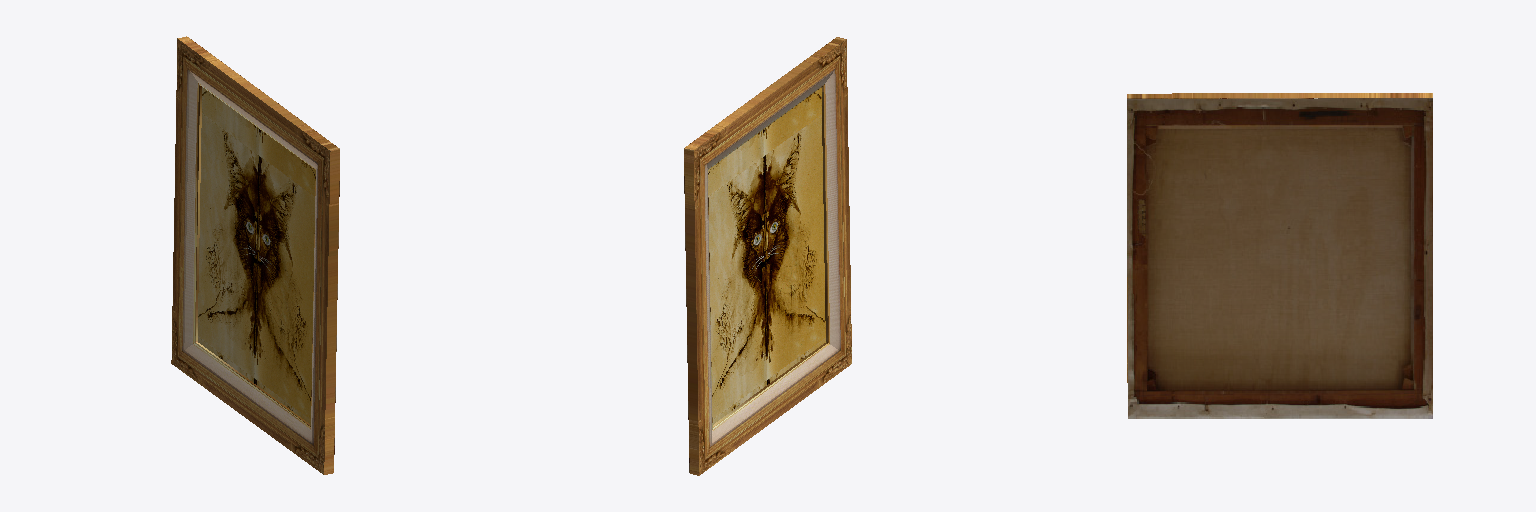
3 views of the same model, side by side, from view 1: azimuth 30°, elevation 25°; view 2: azimuth 150°, elevation 25°; view 3: azimuth 270°, elevation 25° (orthographic).
Visible parts, largest first — view 1: Canvas, Frame; view 2: Canvas, Frame; view 3: Back, Frame.
Boxes of the visible parts, x1=… form: Canvas: x1=198, y1=87, x2=315, y2=424; Frame: x1=171, y1=36, x2=339, y2=474; Canvas: x1=708, y1=88, x2=825, y2=424; Frame: x1=684, y1=37, x2=851, y2=475; Back: x1=1127, y1=98, x2=1432, y2=418; Frame: x1=1127, y1=93, x2=1432, y2=382.
Bounding box in the file's own units: 2.72 × 52.78 × 45.21.
Materials: 2 (2 with a texture image).